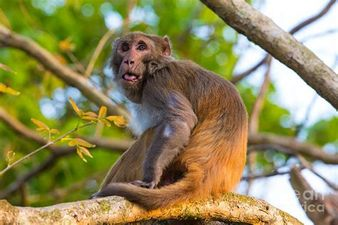monkey: (61, 18, 256, 196)
